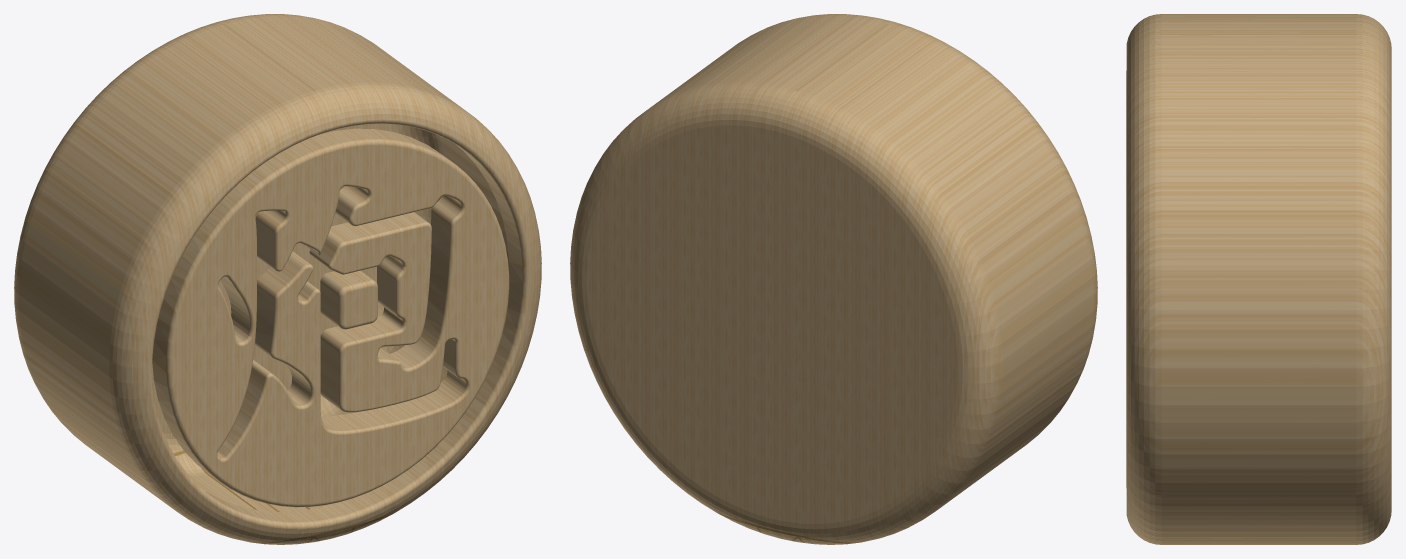
The model's file is h01_chess_red_cannon_wood.obj.
3 renders of one model, left to right at view 1: azimuth 30°, elevation 25°; view 2: azimuth 150°, elevation 25°; view 3: azimuth 270°, elevation 25°, orthographic. The views are drawn at different scales.
Bounding box in the file's own units: 0.03 × 0.03 × 0.015.
Materials: 1 (1 with a texture image).
